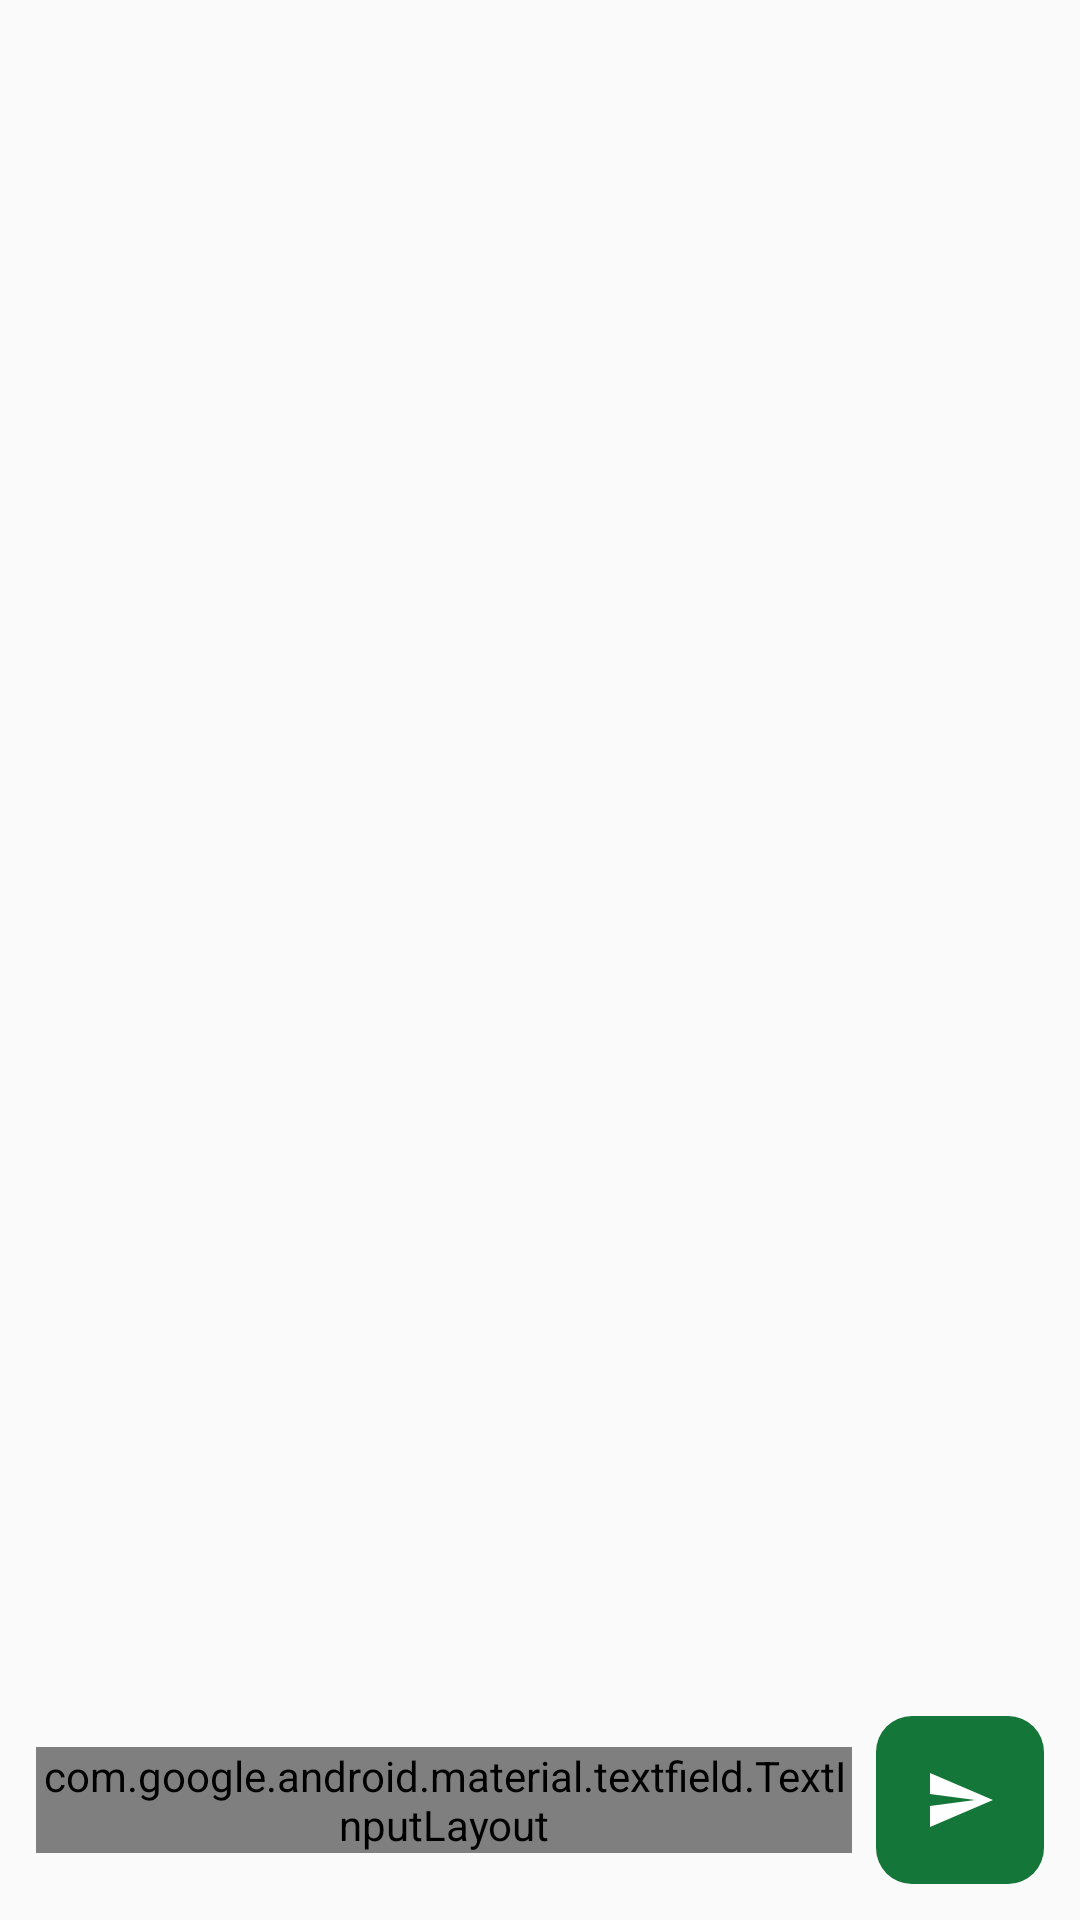

Where to tap for icons on this 1080px×1920px app screen, as [x,y]:
send: [961,1800]
